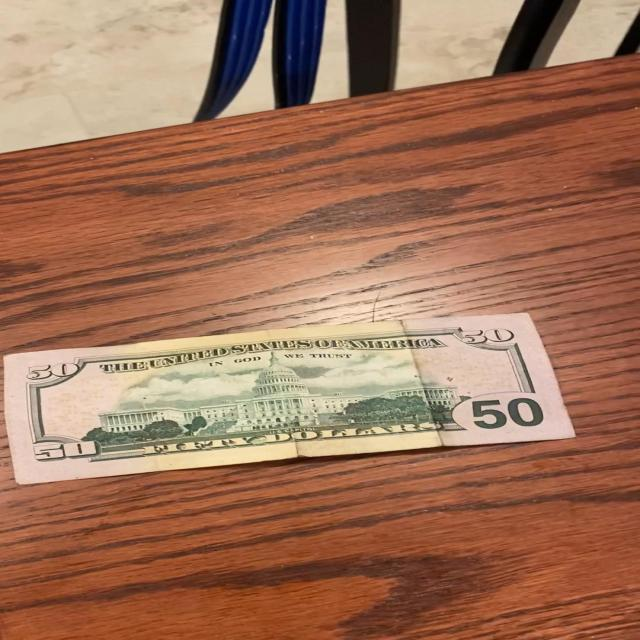50-Back: (0, 313, 583, 490)
